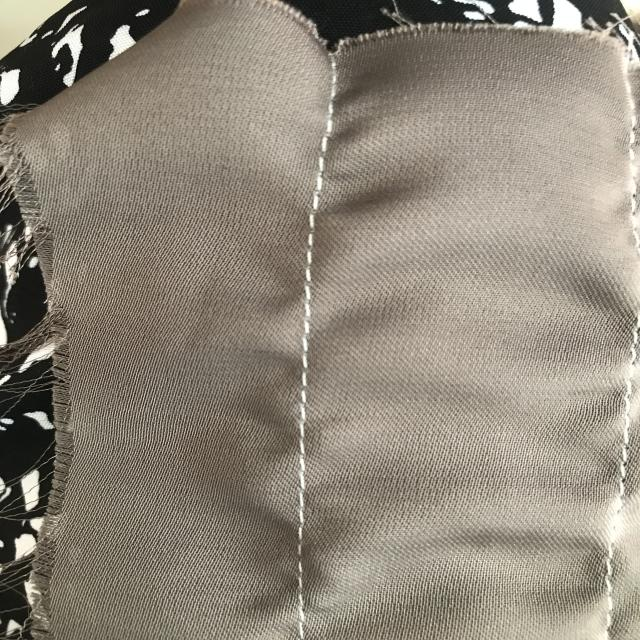good: (286, 310, 317, 486), (297, 181, 330, 294), (285, 503, 320, 582)
